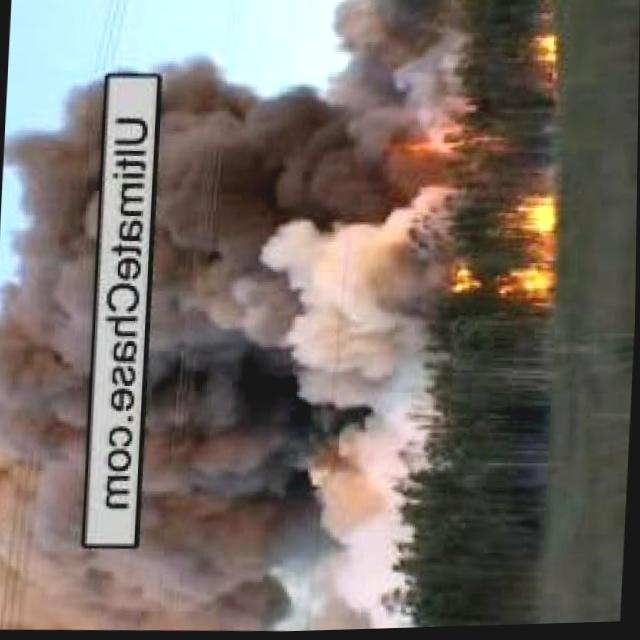helmet: (456, 191, 560, 313), (398, 130, 493, 167), (528, 34, 557, 81)
no_helmet: (134, 50, 432, 637), (0, 80, 105, 632)
